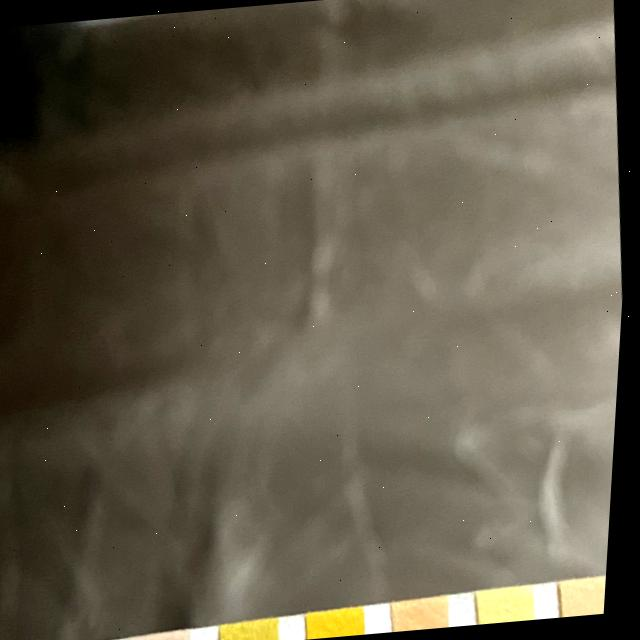Blood: (315, 608, 373, 639)
Ketone: (137, 632, 198, 640)
Protein: (485, 586, 543, 624)
SpGravity: (225, 619, 288, 640)
Urobilinogen: (570, 576, 613, 616)
pH: (401, 597, 457, 632)
